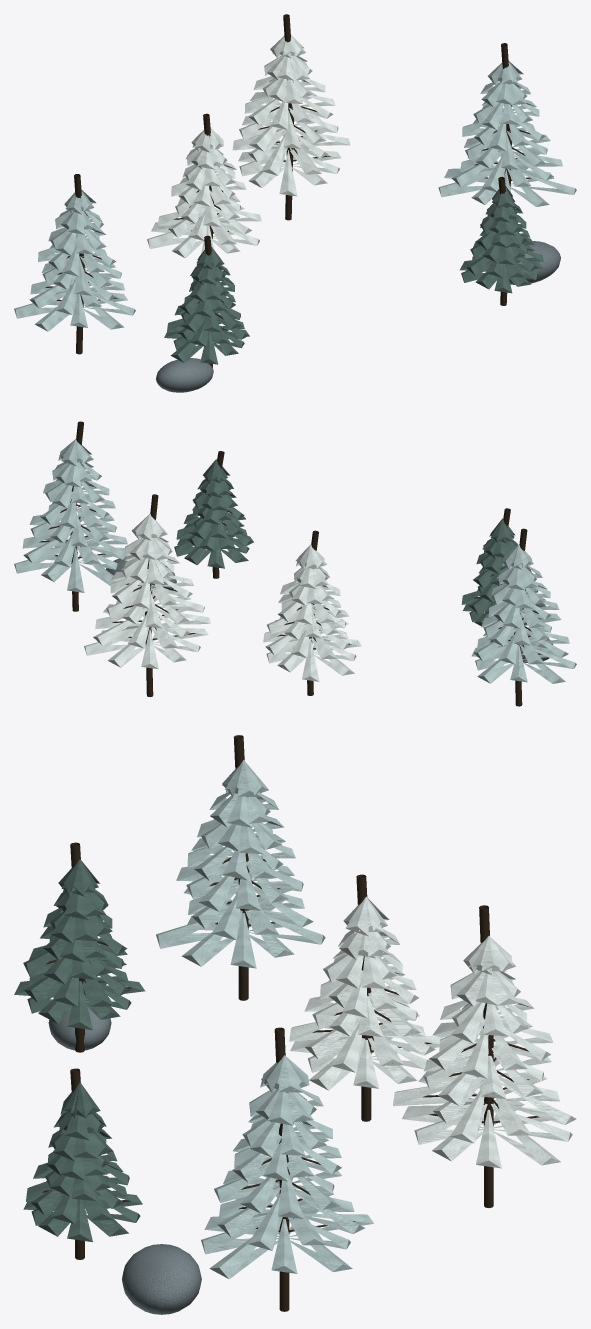
File: snowForest-v1.glb
3 views of the same model, one above another, from view 1: azimuth 30°, elevation 25°; view 2: azimuth 150°, elevation 25°; view 3: azimuth 270°, elevation 25° (orthographic). The views are drawn at different scales.
Parts seen in each view (by area): view 1: Pine canopy.005, Pine canopy.004, Pine canopy.001, Pine canopy.002, Pine canopy, Pine canopy.003, Verge boulder, Tapered trunk.005, Tapered trunk.001; view 2: Pine canopy.005, Pine canopy.004, Pine canopy.001, Pine canopy.002, Pine canopy.003, Pine canopy, Tapered trunk.005, Tapered trunk.004, Verge boulder, Tapered trunk.001; view 3: Pine canopy.005, Pine canopy.004, Pine canopy.001, Pine canopy.002, Pine canopy, Pine canopy.003, Verge boulder, Tapered trunk.005, Tapered trunk.004, Tapered trunk.002, Tapered trunk.001.
Part boxes in pixels (x1,y1,x2,y2): Pine canopy.005: [232, 35, 350, 196]; Pine canopy.004: [438, 61, 576, 206]; Pine canopy.001: [14, 190, 135, 331]; Pine canopy.002: [147, 128, 261, 258]; Pine canopy: [164, 246, 249, 364]; Pine canopy.003: [460, 186, 543, 293]; Verge boulder: [156, 241, 560, 392]; Tapered trunk.005: [249, 14, 330, 220]; Tapered trunk.001: [45, 174, 118, 354]; Pine canopy.005: [84, 514, 210, 669]; Pine canopy.004: [14, 439, 128, 592]; Pine canopy.001: [471, 544, 576, 683]; Pine canopy.002: [263, 544, 361, 681]; Pine canopy.003: [174, 459, 253, 568]; Pine canopy: [461, 518, 545, 627]; Tapered trunk.005: [112, 494, 196, 696]; Tapered trunk.004: [39, 421, 105, 611]; Verge boulder: [106, 558, 553, 662]; Tapered trunk.001: [490, 528, 541, 706]; Pine canopy.005: [393, 936, 576, 1168]; Pine canopy.004: [201, 1055, 373, 1279]; Pine canopy.001: [156, 760, 325, 968]; Pine canopy.002: [289, 896, 443, 1090]; Pine canopy: [14, 859, 145, 1030]; Pine canopy.003: [23, 1082, 142, 1241]; Verge boulder: [48, 996, 201, 1314]; Tapered trunk.005: [422, 905, 539, 1207]; Tapered trunk.004: [238, 1027, 355, 1311]; Tapered trunk.002: [312, 874, 431, 1121]; Tapered trunk.001: [209, 735, 279, 1000].
Size of what is drawn, in the model's own units: 22.36 by 8.36 by 13.77.
Materials: 5 (5 with a texture image).
